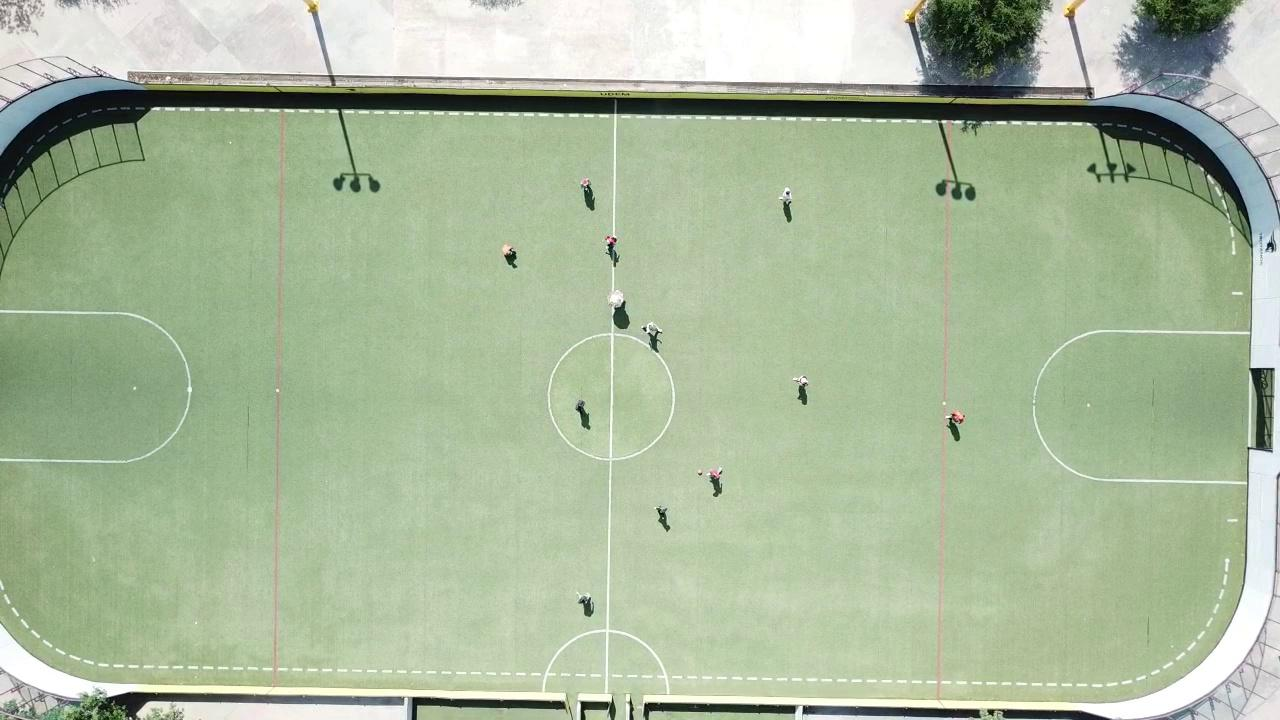ball: (697, 470, 703, 475)
player: (695, 466, 719, 484), (608, 289, 625, 311), (642, 321, 662, 339), (946, 410, 965, 427), (778, 187, 793, 205), (604, 234, 617, 253), (792, 375, 809, 389), (502, 244, 515, 260), (577, 593, 591, 607), (652, 504, 668, 515), (575, 399, 586, 413), (580, 177, 591, 190)
